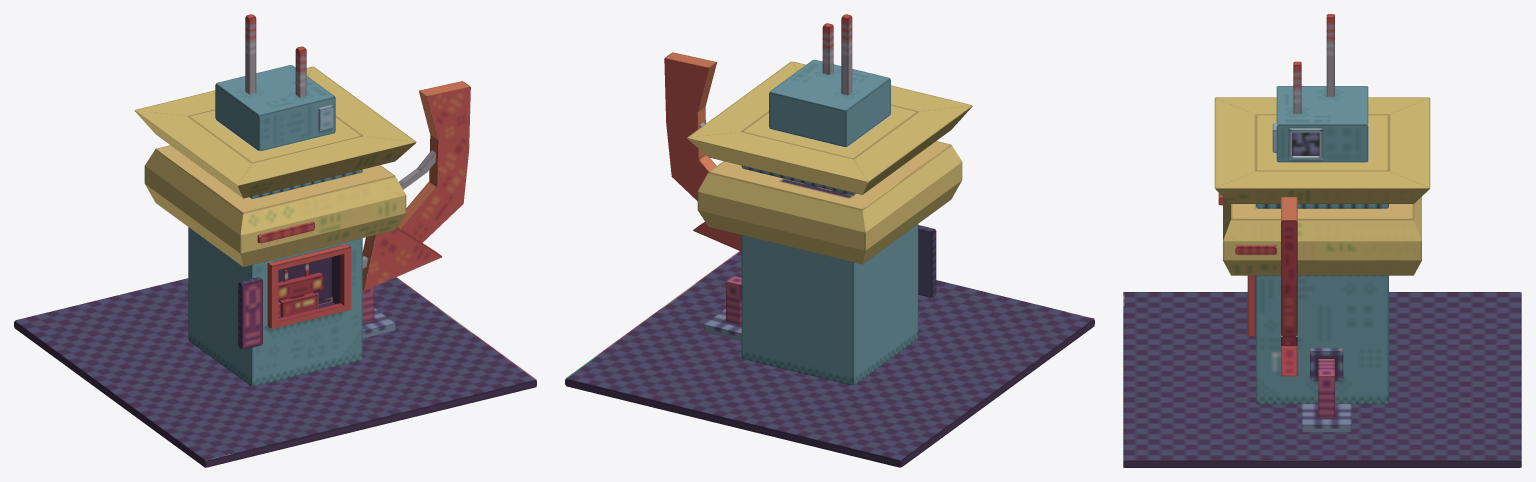
Rendered from building.obj.
3 views of the same model, side by side, from view 1: azimuth 30°, elevation 25°; view 2: azimuth 150°, elevation 25°; view 3: azimuth 270°, elevation 25° (orthographic). The views are drawn at different scales.
Parts seen in each view (by area): view 1: cuboid.004, cuboid.012, arrow, cuboid.008, cuboid.003, head, cuboid.005, cuboid.009, cuboid.002, sign; view 2: cuboid.004, cuboid.012, arrow, cuboid.008, cuboid.003, cuboid.011, cuboid.009, cuboid.002; view 3: cuboid.012, cuboid.004, arrow, cuboid.009, cuboid.011, cuboid.010, cuboid.003, cuboid.001, cuboid.002, sign.001.
Boxes of the visible parts, bbox=[...] form: cuboid.004: bbox=[135, 65, 416, 386]; cuboid.012: bbox=[14, 277, 536, 467]; arrow: bbox=[362, 81, 470, 290]; cuboid.008: bbox=[238, 277, 262, 349]; cuboid.003: bbox=[245, 14, 256, 94]; head: bbox=[278, 272, 323, 300]; cuboid.005: bbox=[278, 292, 317, 317]; cuboid.009: bbox=[362, 308, 395, 338]; cuboid.002: bbox=[295, 46, 306, 97]; sign: bbox=[257, 221, 314, 243]; cuboid.004: bbox=[687, 59, 972, 385]; cuboid.012: bbox=[565, 251, 1094, 467]; arrow: bbox=[664, 52, 741, 251]; cuboid.008: bbox=[918, 225, 936, 297]; cuboid.003: bbox=[841, 14, 852, 95]; cuboid.011: bbox=[726, 276, 741, 325]; cuboid.009: bbox=[704, 308, 741, 340]; cuboid.002: bbox=[822, 23, 833, 74]; cuboid.012: bbox=[1123, 292, 1521, 467]; cuboid.004: bbox=[1214, 86, 1430, 404]; arrow: bbox=[1281, 197, 1297, 376]; cuboid.009: bbox=[1301, 403, 1351, 432]; cuboid.011: bbox=[1318, 359, 1334, 417]; cuboid.010: bbox=[1310, 348, 1343, 381]; cuboid.003: bbox=[1326, 14, 1334, 96]; cuboid.001: bbox=[1289, 128, 1322, 160]; cuboid.002: bbox=[1293, 61, 1301, 113]; sign.001: bbox=[1235, 245, 1276, 254].
Bounding box in the file's own units: 3.09 × 2.97 × 3.
